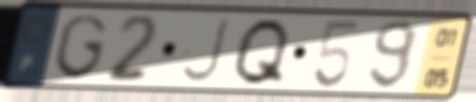2: (105, 12, 163, 84)
5: (311, 18, 362, 90)
9: (366, 18, 422, 94)
G: (51, 12, 111, 82)
J: (178, 15, 233, 86)
Q: (228, 15, 294, 89)
